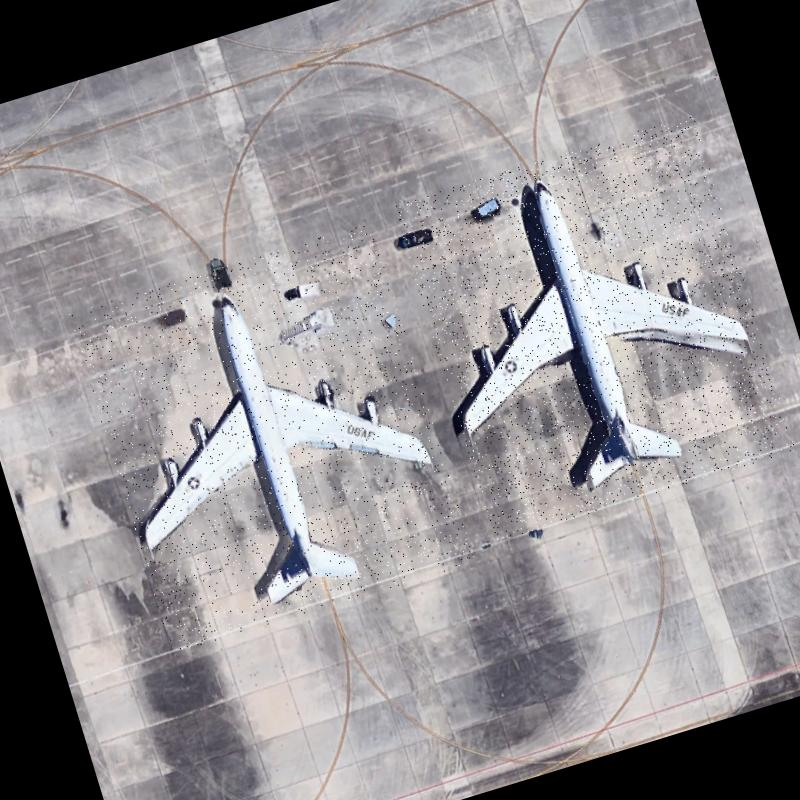A11: (68, 222, 476, 654), (393, 114, 796, 542)
